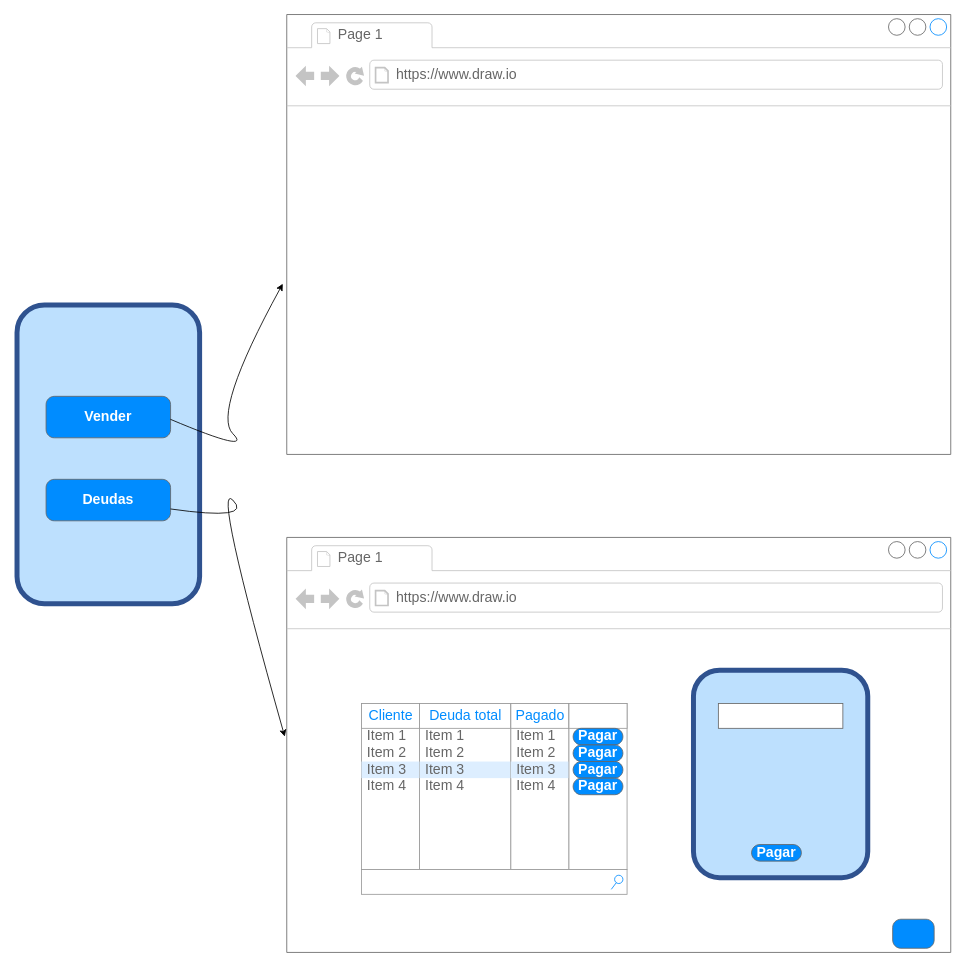
The diagram is 965 pixels wide and 967 high, and some of its shapes have lost their labels. Each missing label, with the box of its shape:
Monto: (718, 703, 843, 728)
Salir: (892, 918, 934, 948)
Search: (361, 869, 627, 894)
